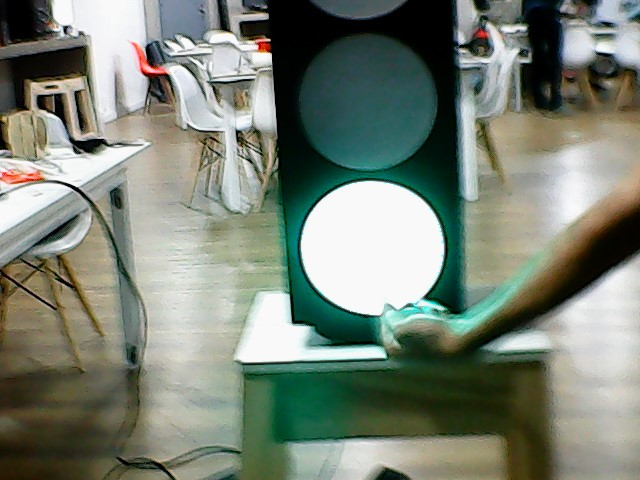verde: (222, 1, 492, 331)
